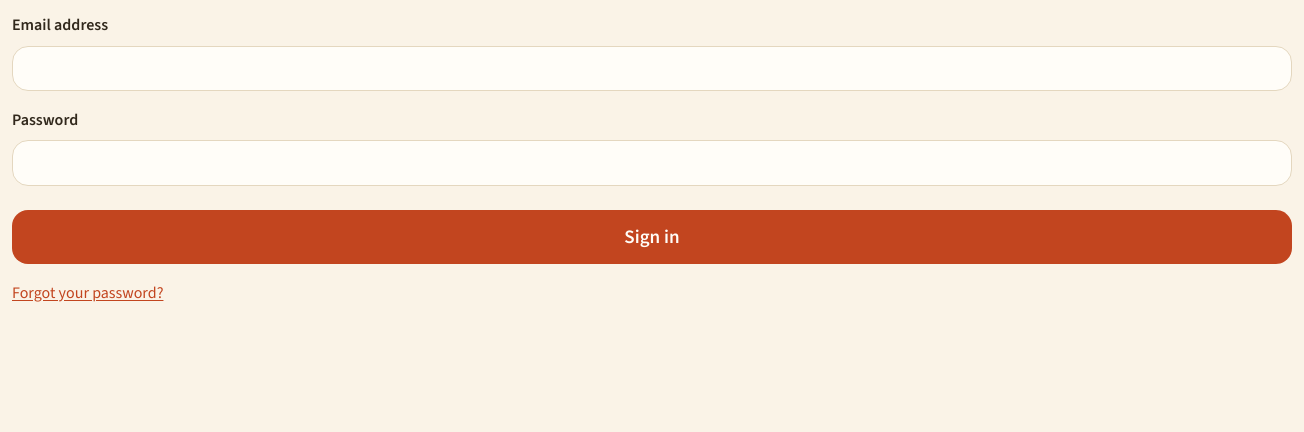
Test: LoginForm › does not submit a malformed email
Type "nope" into the field labelled "Email address" at (652, 68), box [12,46,1292,91]
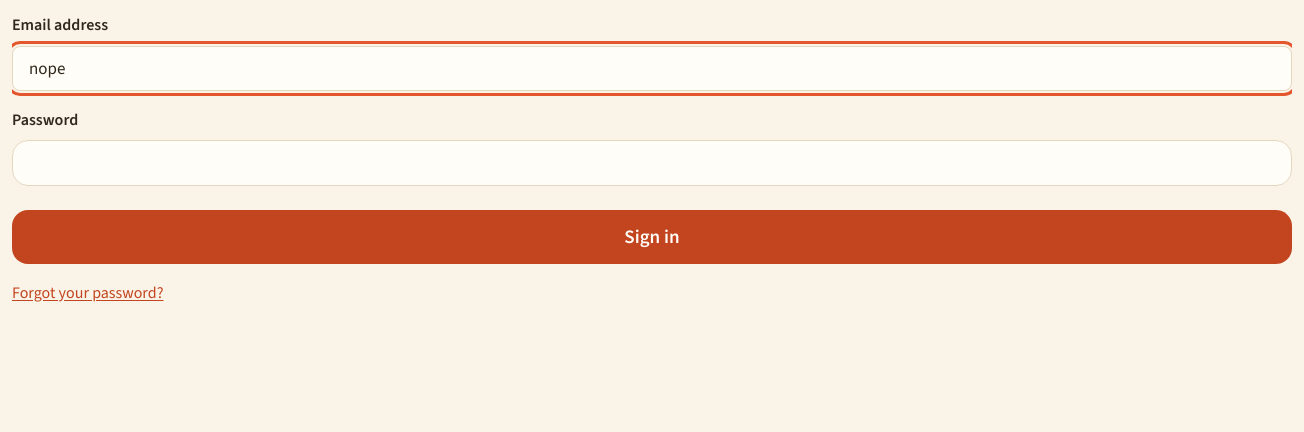
Type "secret123" into the password field labelled "Password" at (652, 163), box [12,140,1292,186]
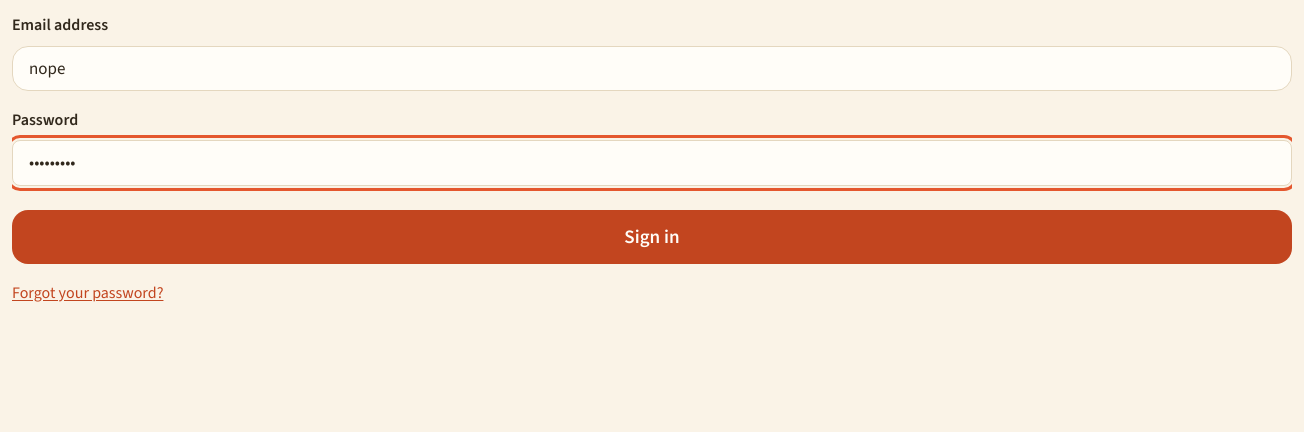
Click the button "Sign in" at (652, 237), box [12,210,1292,264]
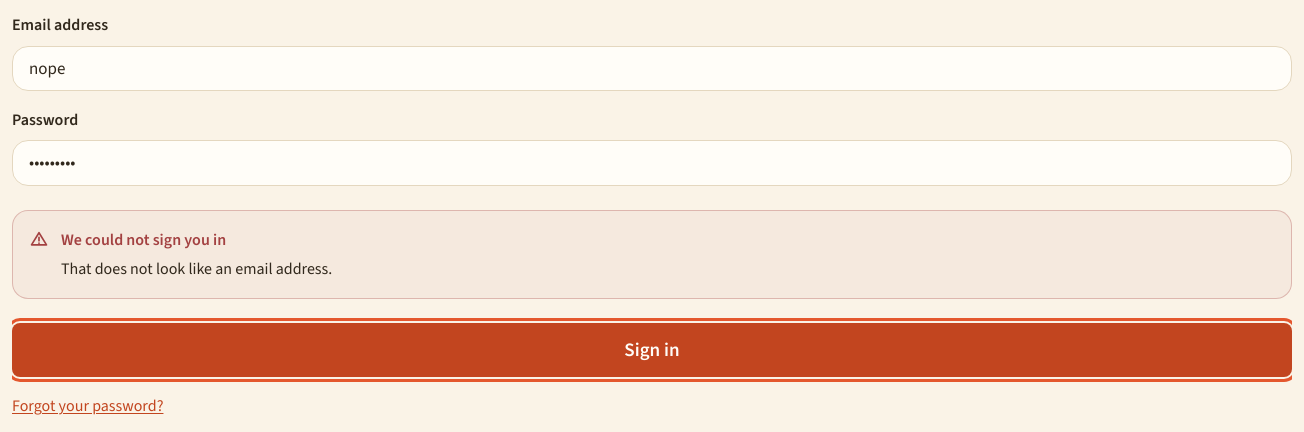
Now the message shows "does not look like an email", box [61,258,332,279]
